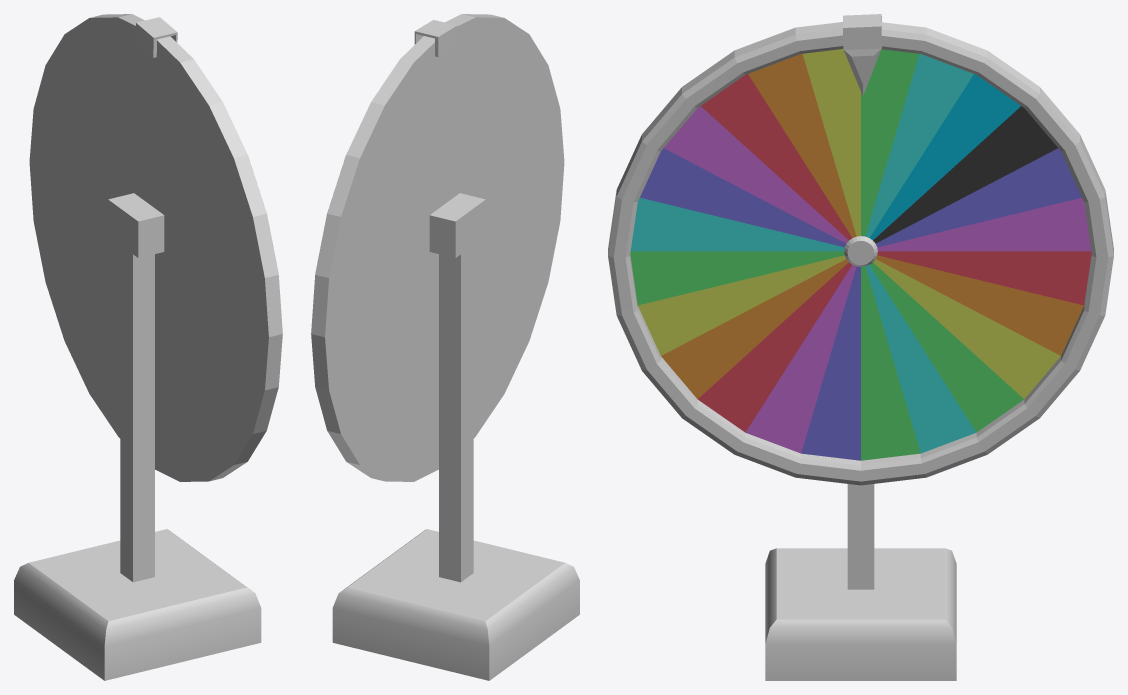
Rendered from wheel.fbx.
3 renders of one model, left to right at view 1: azimuth 30°, elevation 25°; view 2: azimuth 150°, elevation 25°; view 3: azimuth 270°, elevation 25°, orthographic. The views are drawn at different scales.
Visible parts, largest first — view 1: Circle.004, Plane; view 2: Circle.004, Plane; view 3: Wheel, Circle.004, Plane.
Boxes of the visible parts, x1,y1,x2,y2 form: Circle.004: (14,14,282,680); Plane: (135,17,177,57); Circle.004: (311,14,579,680); Plane: (414,20,457,57); Wheel: (630,49,1091,460); Circle.004: (608,22,1113,680); Plane: (843,14,881,95).
Size of the model in its own units: 200 by 728 by 529.
